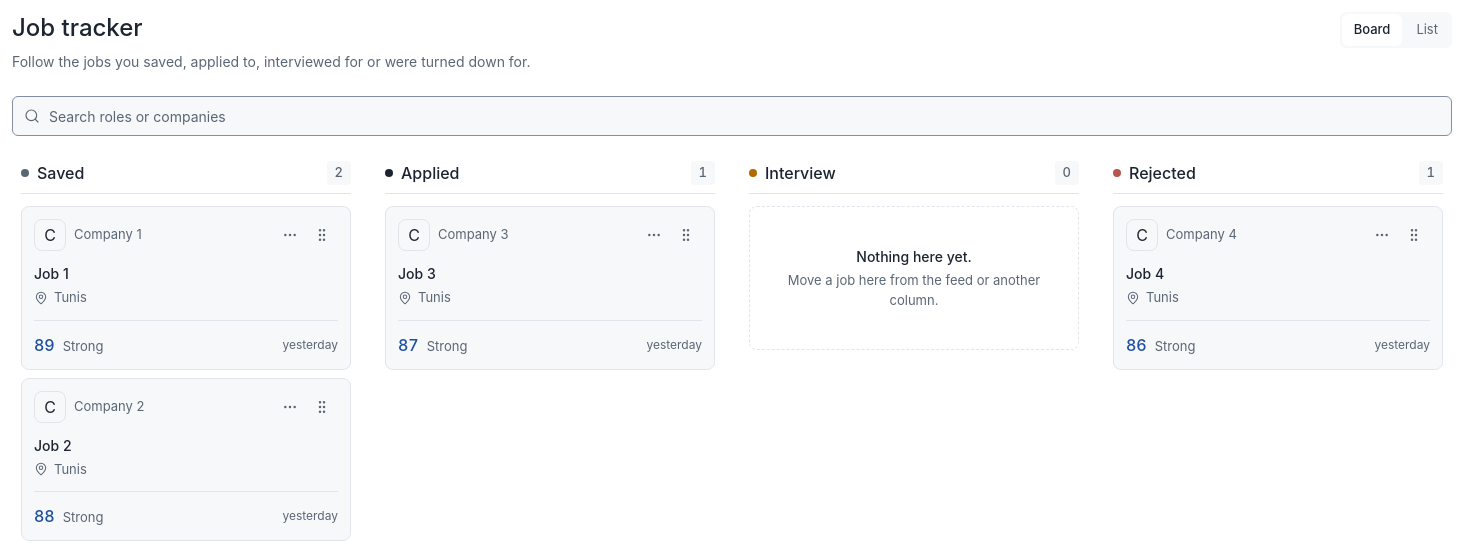
Test: search and card layout › filters the loaded cards in every column by title or company, and says when none match
The width and height of the screenshot is (1464, 558).
Check: the link "Job 1" is shown, box [34,265,69,282]
Type "company 3" into the search field labelled "Search roles or companies" at (732, 116), box [12,96,1452,136]
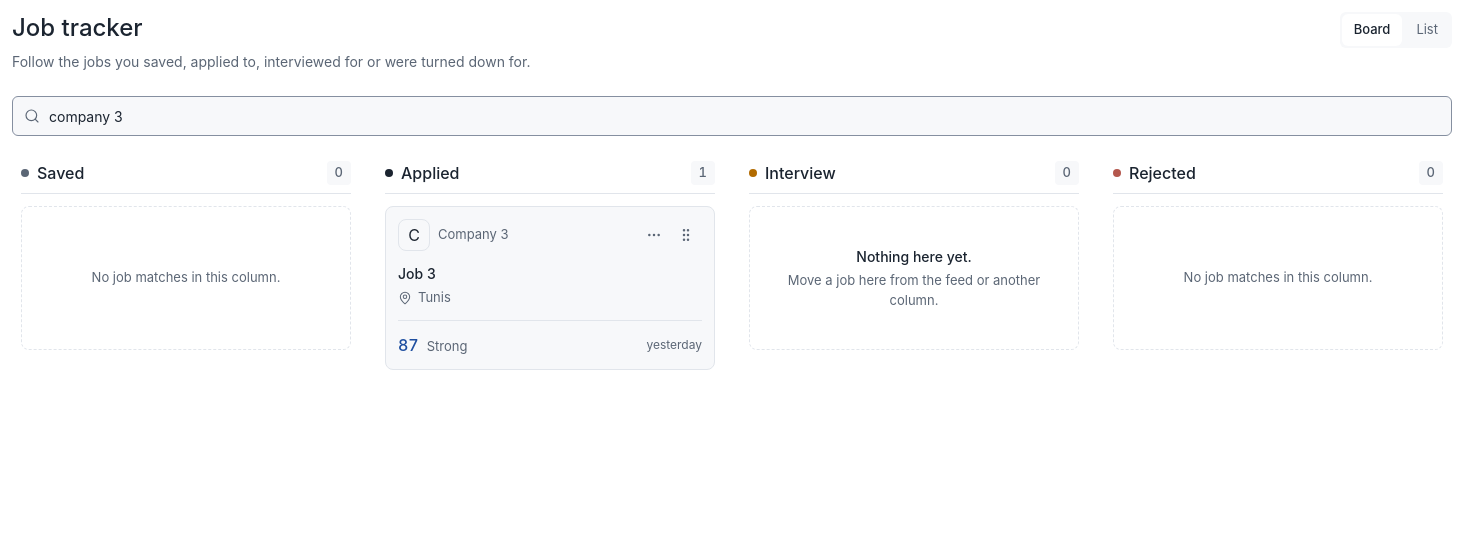
Check: the link "Job 1" is gone
Check: the 1st text "No job matches in this column." is shown, box [92,268,280,288]
Check: the heading "Saved 0" is shown, box [21,161,351,194]
